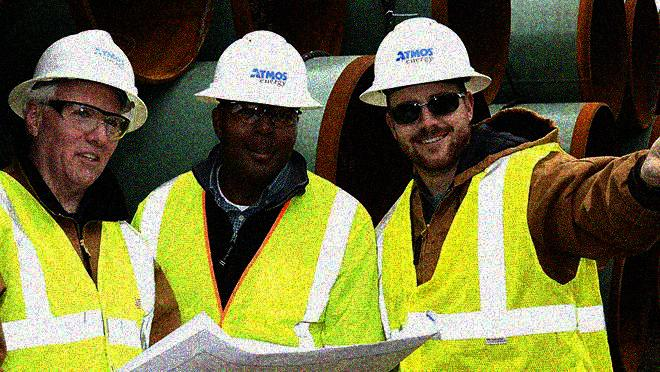helmet: (8, 28, 149, 189), (358, 18, 492, 168), (193, 27, 325, 175)
